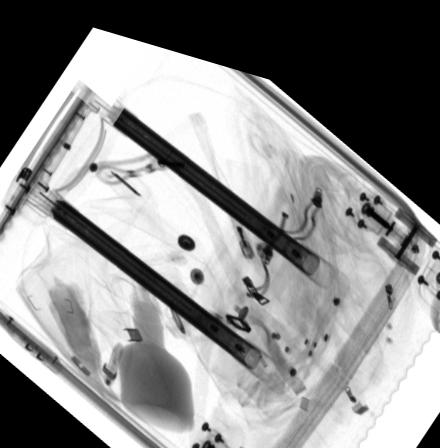Lighter: (220, 184, 254, 244)
